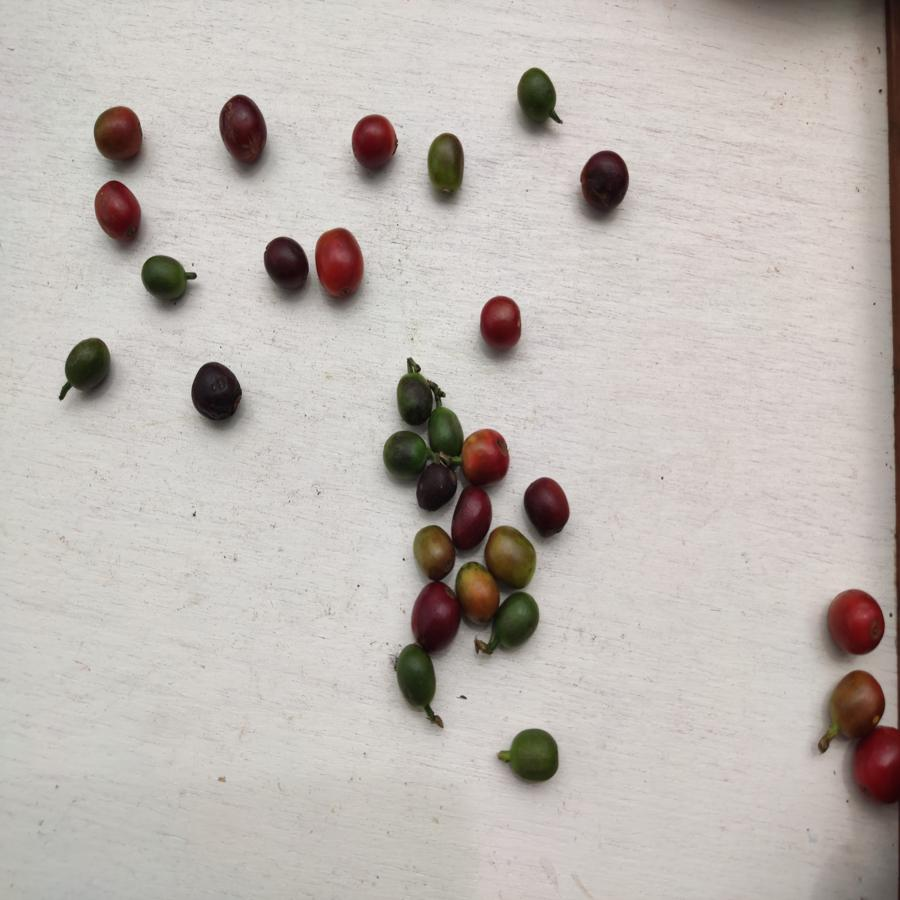Inmaduro: (511, 64, 562, 128), (391, 645, 441, 705), (62, 337, 111, 398), (508, 730, 561, 780), (500, 592, 539, 653), (394, 372, 436, 424), (141, 254, 190, 298), (426, 405, 463, 462), (384, 432, 428, 476)
Maduro: (825, 587, 885, 657), (852, 728, 900, 811), (314, 227, 367, 298), (92, 177, 141, 246), (349, 113, 398, 172), (477, 293, 524, 353), (463, 424, 510, 484)
Pinton: (828, 668, 887, 736), (485, 526, 537, 589), (89, 106, 146, 163), (423, 132, 467, 195), (456, 562, 500, 625), (411, 522, 457, 581)
Sobremaduro: (217, 94, 268, 165), (187, 363, 244, 422), (578, 150, 633, 210), (523, 477, 571, 540), (412, 582, 458, 647), (262, 230, 312, 289), (455, 486, 489, 547), (415, 467, 456, 511)
